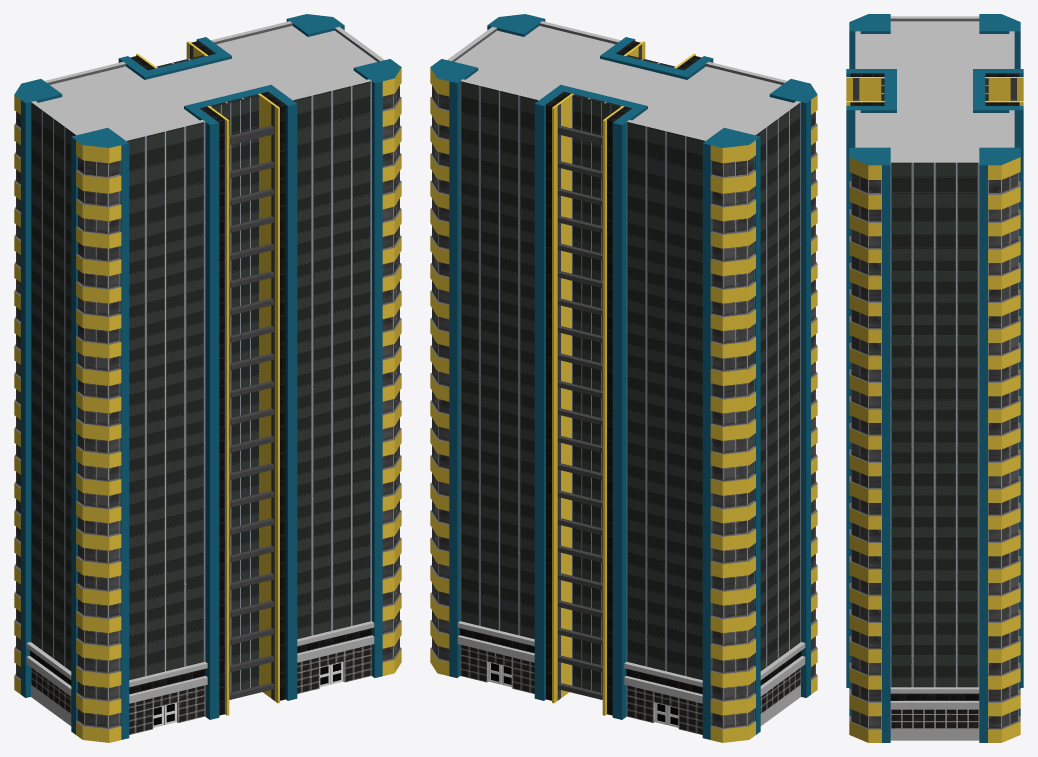
3 views of the same model, side by side, from view 1: azimuth 30°, elevation 25°; view 2: azimuth 150°, elevation 25°; view 3: azimuth 270°, elevation 25° (orthographic). The views are drawn at different scales.
Parts seen in each view (by area): view 1: Building; view 2: Building; view 3: Building.
Part boxes in pixels (x1=…): Building: x1=14, y1=14, x2=401, y2=742; Building: x1=430, y1=14, x2=817, y2=742; Building: x1=846, y1=14, x2=1023, y2=742.
Size of what is drawn, in the model's own units: 36.48 by 65 by 18.07.
